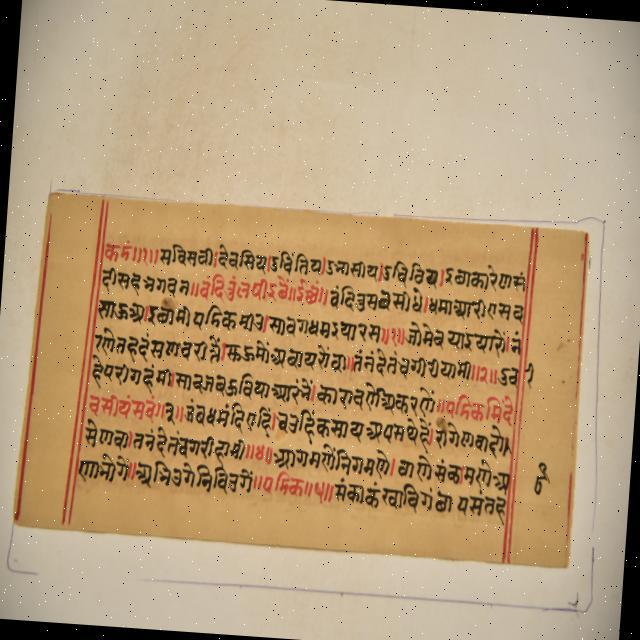text_paragraph: (12, 190, 587, 568)
